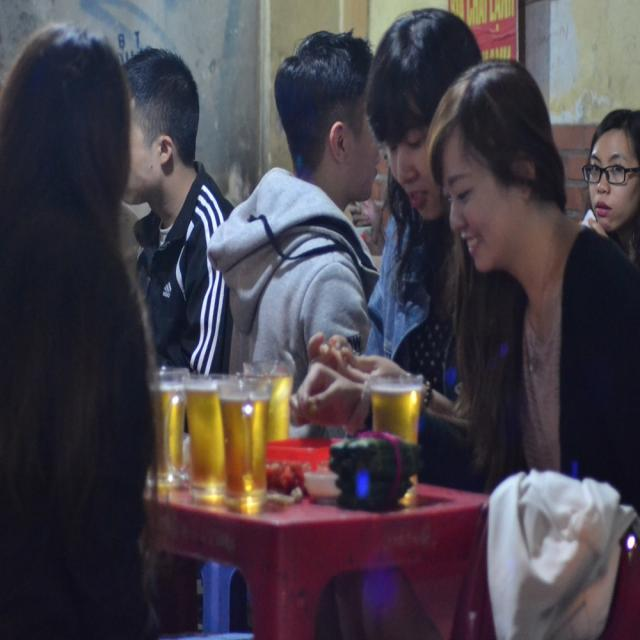body: (287, 56, 640, 512), (0, 18, 156, 640), (303, 1, 491, 429), (118, 42, 238, 380), (577, 107, 640, 266)
